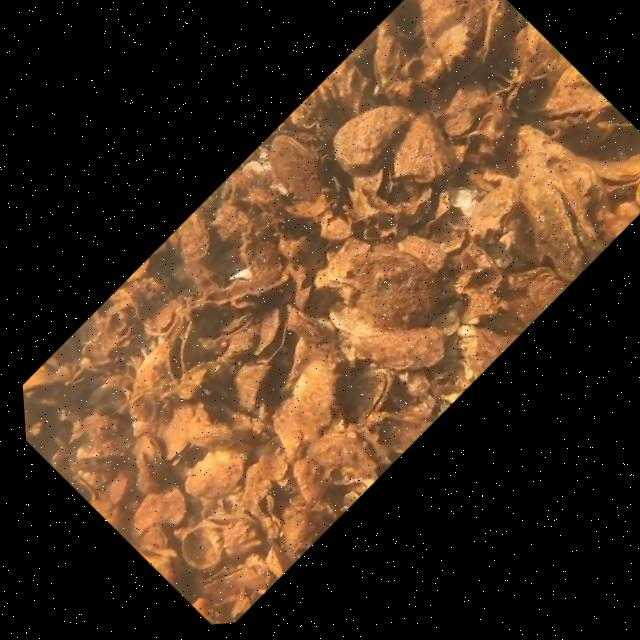Oyster-Closed: (315, 238, 439, 328), (334, 106, 411, 175), (395, 113, 450, 182), (269, 132, 324, 201), (292, 359, 339, 439), (515, 22, 571, 84), (92, 299, 143, 359), (185, 450, 246, 498), (419, 0, 481, 45), (187, 408, 233, 450), (236, 363, 271, 411)
Oyster-Indeterminate: (262, 486, 333, 561), (132, 486, 186, 535), (136, 452, 151, 475)
Oyster-Open: (521, 164, 589, 280), (467, 179, 519, 244), (344, 367, 393, 425), (165, 305, 190, 378), (183, 526, 223, 570), (255, 308, 287, 363), (133, 433, 162, 460), (222, 312, 253, 332)
